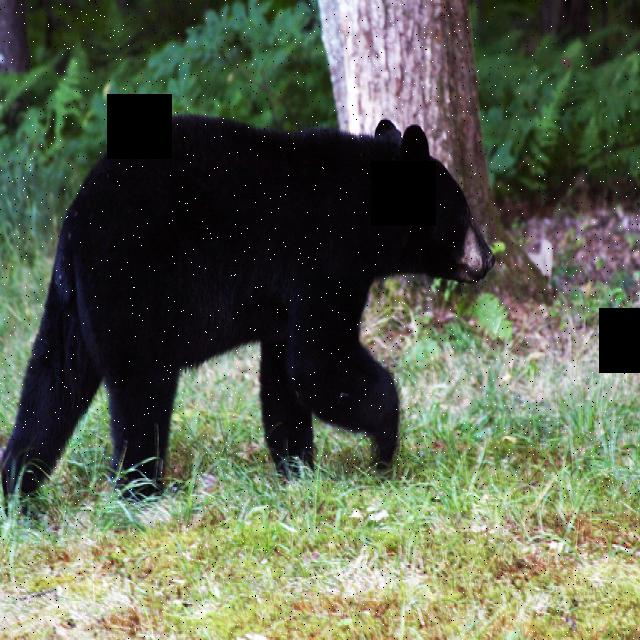Bear: (4, 101, 496, 482)
